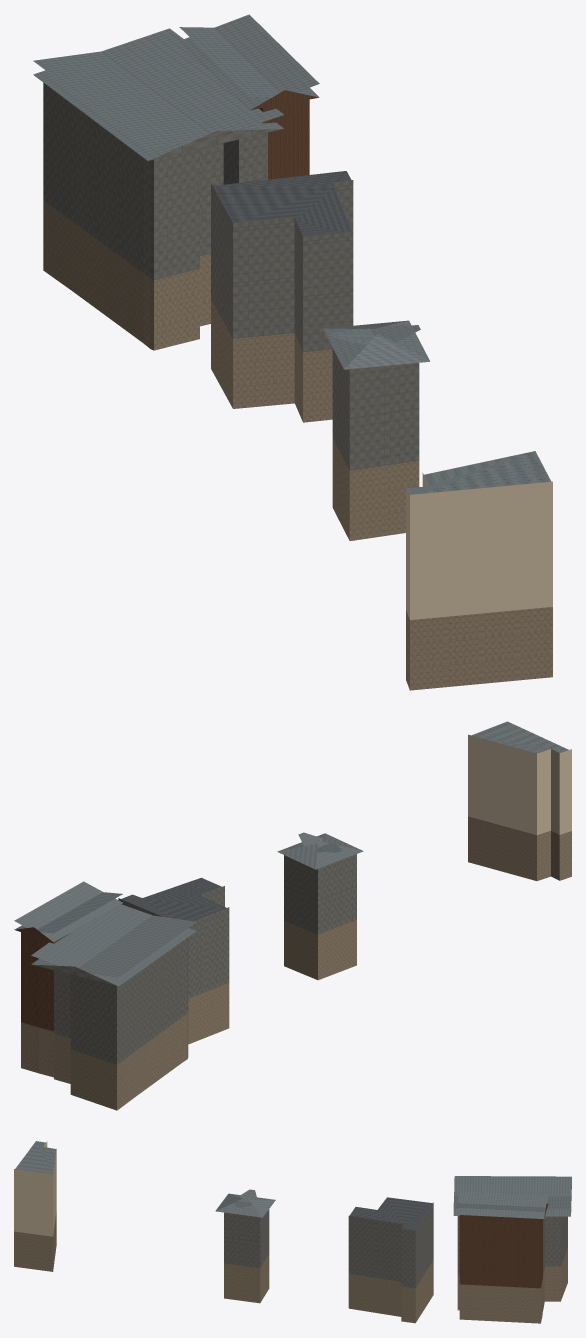
The model's file is bld_c-13_27_480.gltf.
3 views of the same model, one above another, from view 1: azimuth 30°, elevation 25°; view 2: azimuth 150°, elevation 25°; view 3: azimuth 270°, elevation 25° (orthographic). The views are drawn at different scales.
Visible parts, largest first — view 1: bld_c-13_27_480; view 2: bld_c-13_27_480; view 3: bld_c-13_27_480.
Boxes of the visible parts, box(x1,y1,x2,y2) form: bld_c-13_27_480: box(33, 14, 552, 690); bld_c-13_27_480: box(14, 721, 571, 1110); bld_c-13_27_480: box(14, 1141, 571, 1323).
Bounding box in the file's own units: 26.34 × 17.8 × 73.28.
9 materials, 9 textured.
